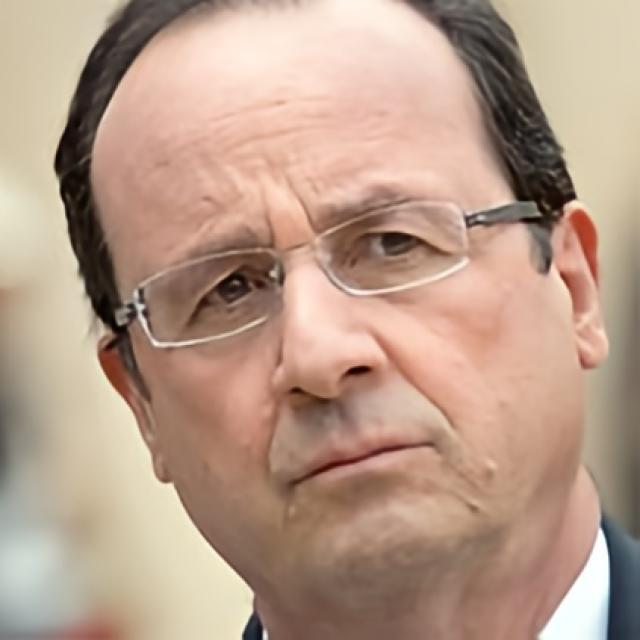anger: (84, 61, 558, 593)
